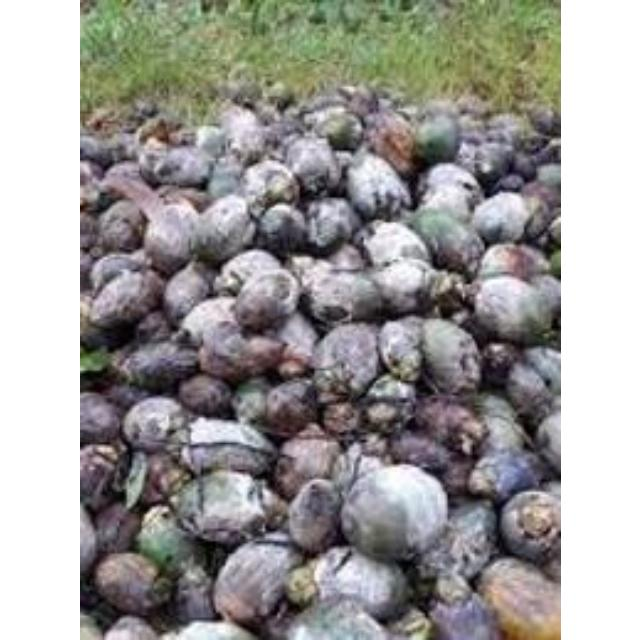damaged: (344, 464, 451, 556), (212, 534, 298, 624), (174, 470, 274, 544), (312, 546, 406, 620), (476, 556, 556, 640), (470, 274, 556, 344), (178, 416, 274, 476), (426, 502, 494, 580), (416, 316, 482, 394), (310, 321, 380, 394), (498, 488, 560, 566), (301, 265, 381, 325), (408, 209, 482, 273), (92, 550, 166, 614), (196, 317, 270, 381), (88, 266, 160, 330), (344, 152, 411, 218), (273, 433, 339, 499), (192, 195, 255, 261), (286, 478, 342, 552), (120, 338, 196, 392), (135, 506, 195, 570), (141, 203, 197, 271), (232, 271, 294, 331), (473, 452, 539, 504), (261, 378, 317, 436), (376, 316, 426, 380), (358, 220, 427, 266), (302, 196, 356, 254), (180, 296, 240, 344), (286, 138, 338, 192), (218, 248, 280, 292), (239, 160, 297, 207), (477, 242, 543, 280), (154, 144, 210, 188), (256, 204, 306, 252), (419, 163, 479, 203), (220, 104, 264, 158), (177, 372, 231, 416), (414, 111, 458, 165), (89, 252, 143, 292), (314, 110, 360, 150)
